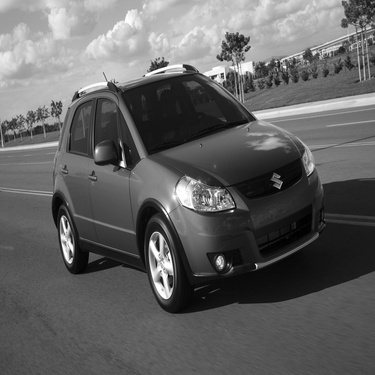car: (7, 51, 339, 304)
